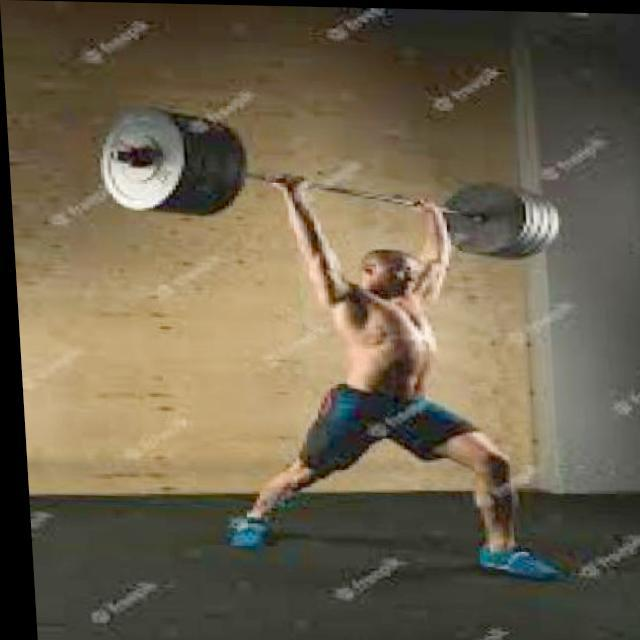barbell: (92, 104, 189, 223)
